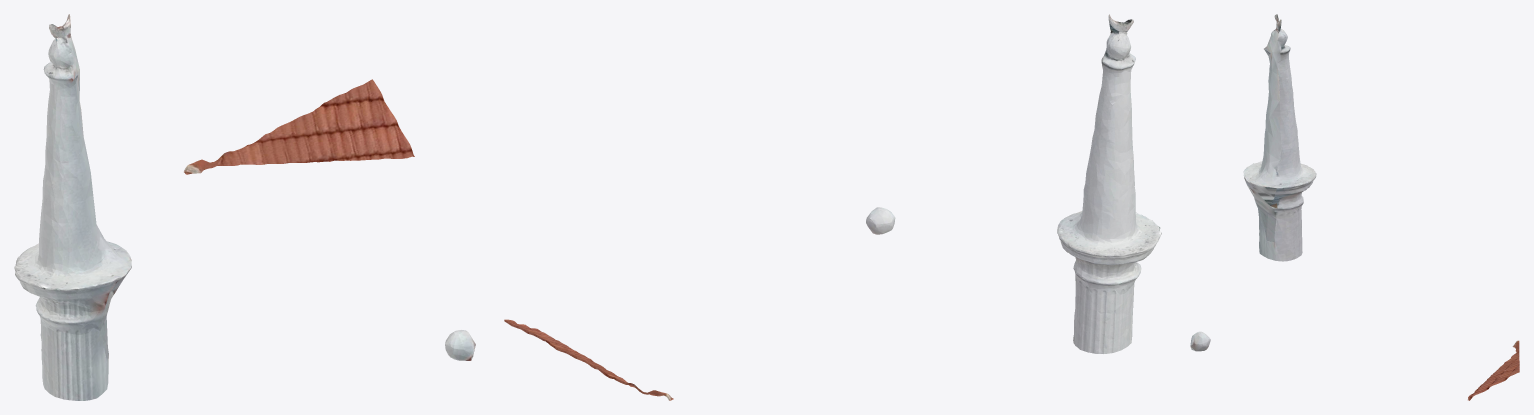
3 views of the same model, side by side, from view 1: azimuth 30°, elevation 25°; view 2: azimuth 150°, elevation 25°; view 3: azimuth 270°, elevation 25° (orthographic). The views are drawn at different scales.
Parts seen in each view (by area): view 1: node_61; view 2: node_61; view 3: node_61.
Part boxes in pixels (box(x1,y1,x2,y2)): node_61: box(14, 14, 475, 400); node_61: box(504, 14, 1161, 400); node_61: box(1190, 14, 1519, 400).
Size of the model in its own units: 6.47 by 4.25 by 5.45.
1 material, 1 textured.
